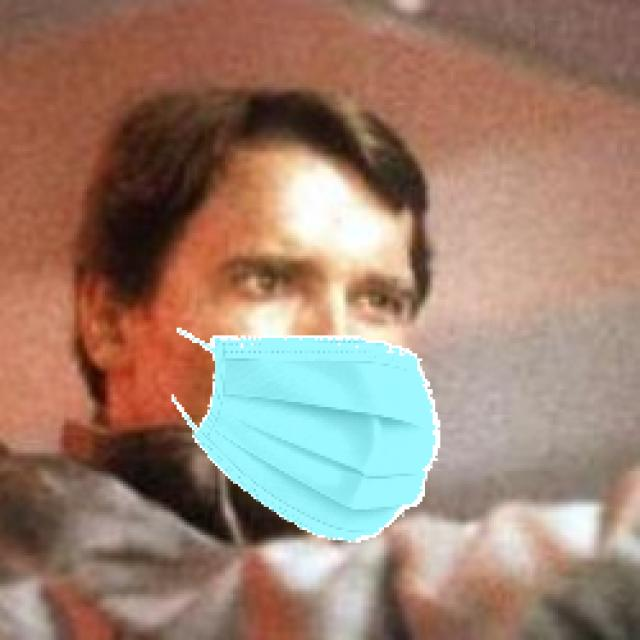mask: (158, 306, 461, 547)
